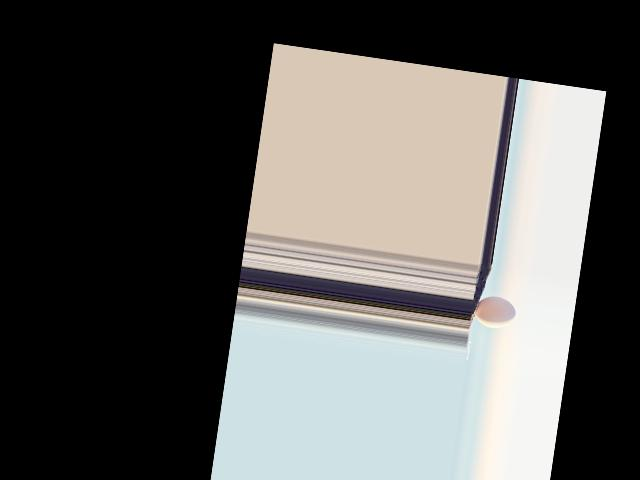egg: (473, 294, 517, 331)
